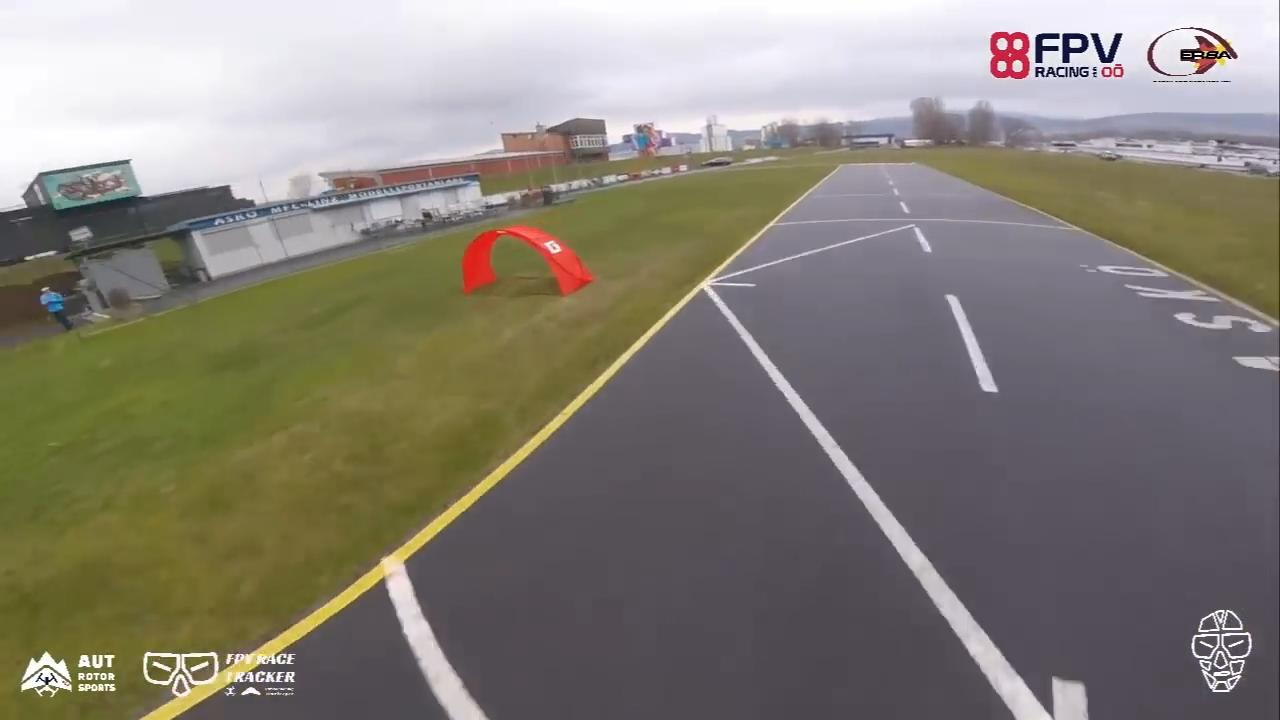gate: (459, 225, 595, 298)
